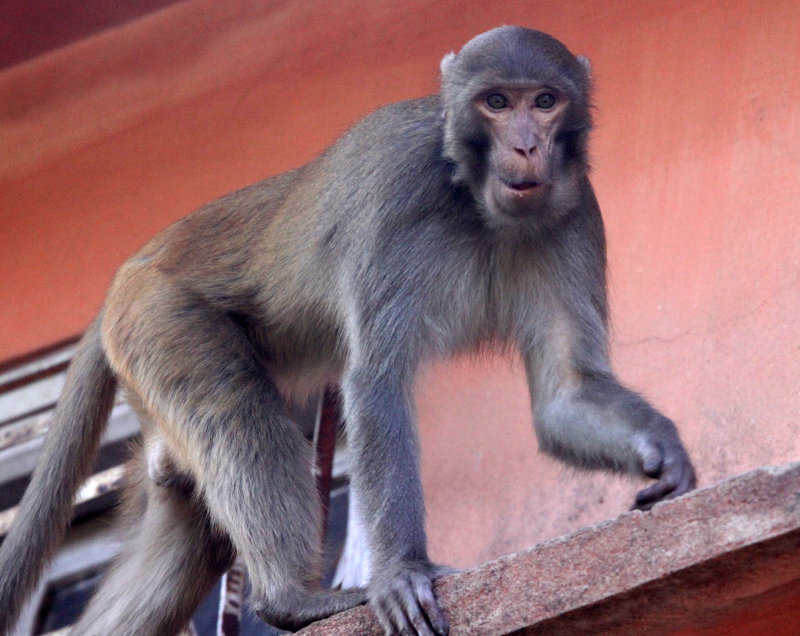monkey: (4, 11, 699, 634)
